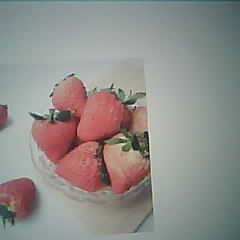straw-ripe: (105, 132, 149, 193), (58, 141, 102, 192), (79, 89, 123, 139), (35, 113, 77, 162), (0, 177, 34, 218)
